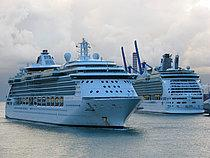Ship: (4, 49, 150, 139), (128, 53, 210, 122)
